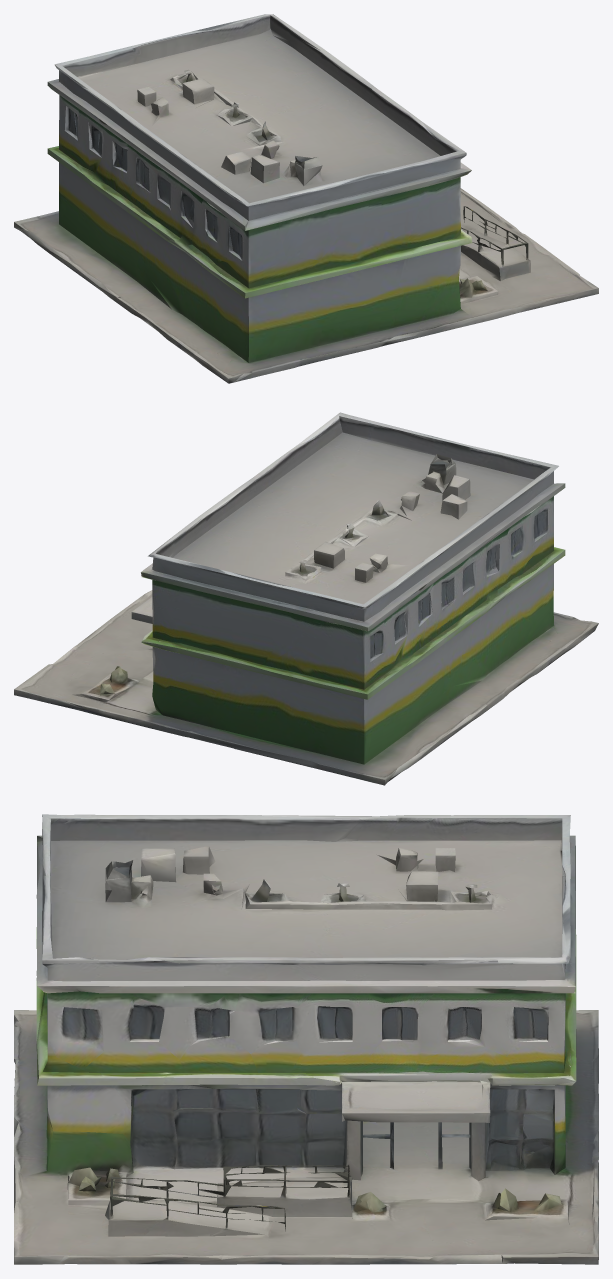
Rendered from obra_cras.glb.
3 renders of one model, top to bottom at view 1: azimuth 30°, elevation 25°; view 2: azimuth 150°, elevation 25°; view 3: azimuth 270°, elevation 25°, orthographic. The views are drawn at different scales.
Parts seen in each view (by area): view 1: tripo_node_7afbfcff-e9cc-41ab-9c40-05423c530652; view 2: tripo_node_7afbfcff-e9cc-41ab-9c40-05423c530652; view 3: tripo_node_7afbfcff-e9cc-41ab-9c40-05423c530652.
Part boxes in pixels (bbox=[...]): tripo_node_7afbfcff-e9cc-41ab-9c40-05423c530652: bbox=[14, 14, 598, 383]; tripo_node_7afbfcff-e9cc-41ab-9c40-05423c530652: bbox=[14, 412, 598, 785]; tripo_node_7afbfcff-e9cc-41ab-9c40-05423c530652: bbox=[14, 814, 598, 1264].
Bounding box in the file's own units: 0.9999 × 0.4422 × 1.
1 material, 1 textured.
